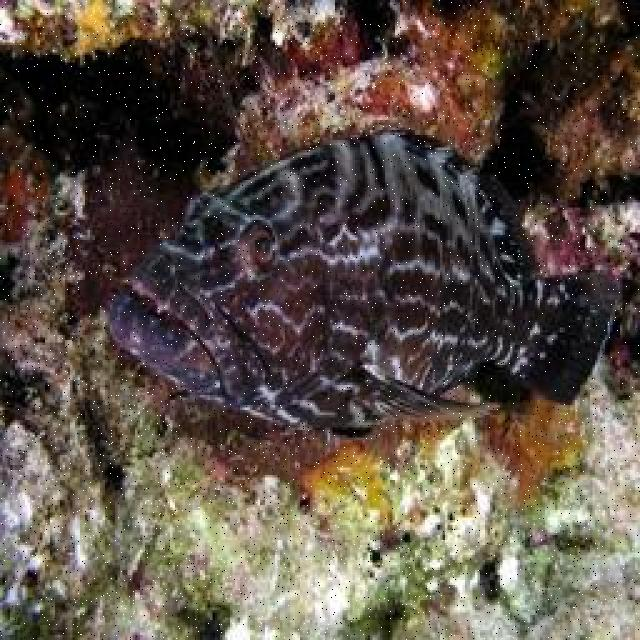fish: (111, 127, 621, 434)
